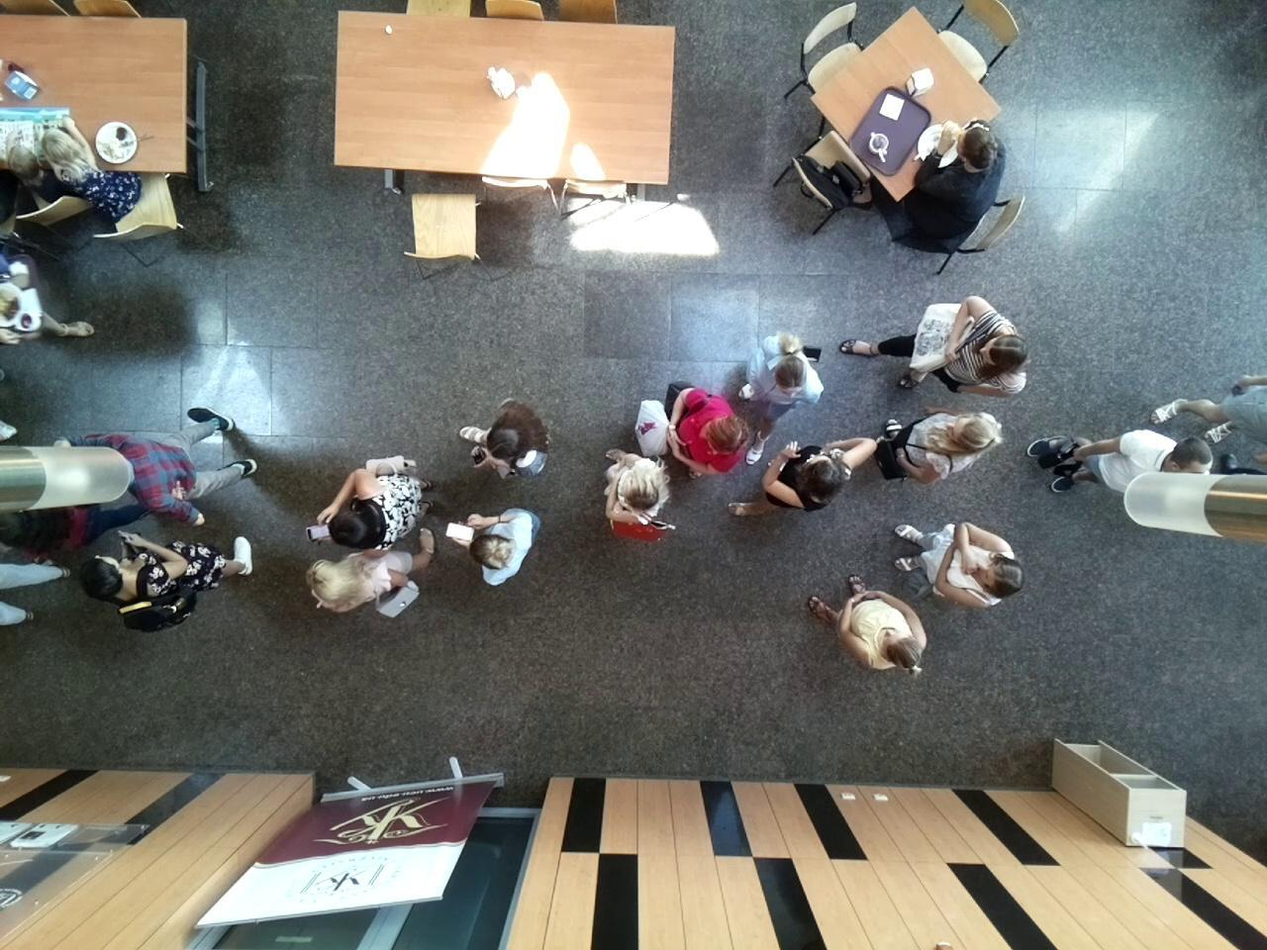person: (106, 518, 304, 632), (812, 580, 962, 710), (902, 260, 1049, 392), (899, 101, 1018, 248), (902, 504, 1061, 612), (853, 384, 1009, 491), (1044, 415, 1233, 491), (757, 426, 874, 544), (670, 359, 761, 508), (455, 385, 564, 488), (734, 332, 835, 438), (314, 538, 440, 622), (591, 434, 680, 548), (443, 516, 537, 623), (326, 457, 437, 537), (55, 146, 150, 235)
